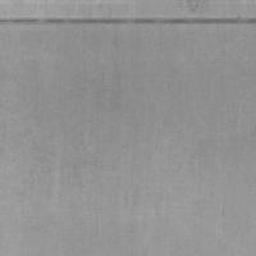Welding line: (0, 15, 256, 27)
